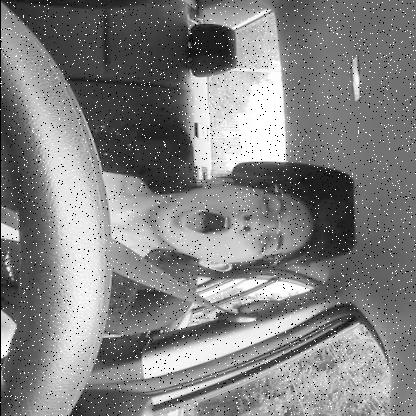seatbelt: (0, 169, 360, 326)
